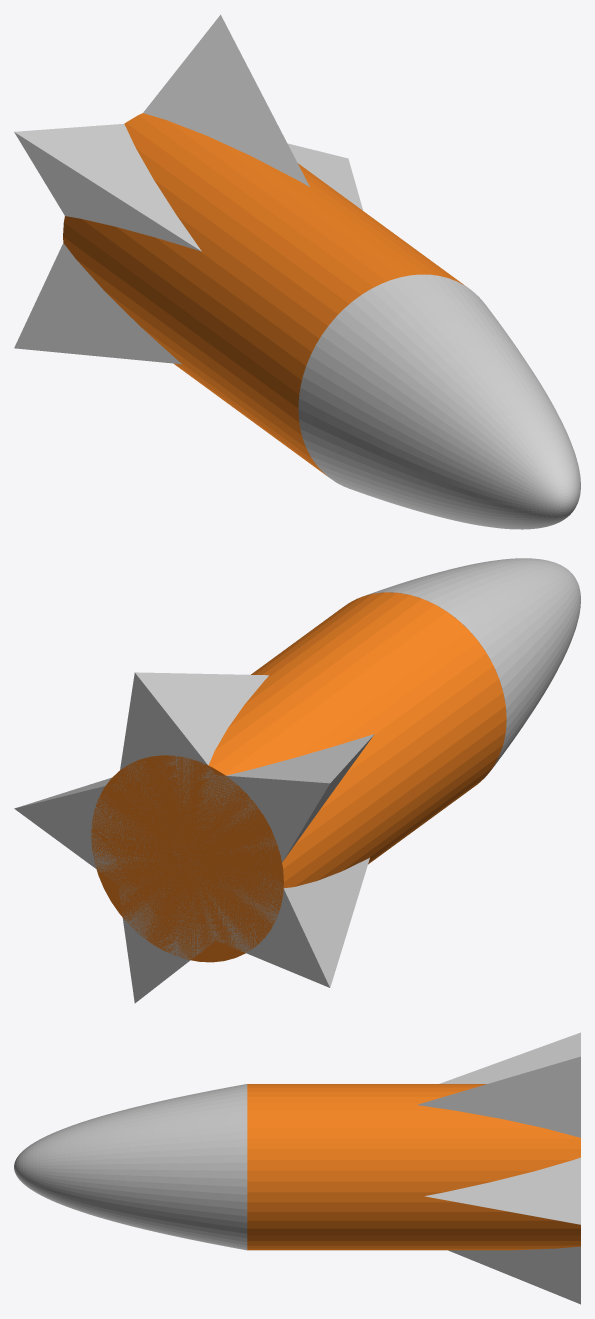
Rendered from bom.obj.
3 renders of one model, top to bottom at view 1: azimuth 30°, elevation 25°; view 2: azimuth 150°, elevation 25°; view 3: azimuth 270°, elevation 25°, orthographic. The views are drawn at different scales.
Parts seen in each view (by area): view 1: obj_1, obj_0, obj_2; view 2: obj_1, obj_2, obj_0; view 3: obj_1, obj_0, obj_2.
Boxes of the visible parts, left/top/right/bottom form: obj_1: left=63, top=113, right=466, bottom=484; obj_0: left=298, top=274, right=580, bottom=529; obj_2: left=14, top=14, right=363, bottom=364; obj_1: left=91, top=592, right=506, bottom=962; obj_2: left=14, top=672, right=374, bottom=1003; obj_0: left=348, top=558, right=580, bottom=782; obj_1: left=247, top=1084, right=580, bottom=1250; obj_0: left=14, top=1084, right=247, bottom=1250; obj_2: left=417, top=1032, right=580, bottom=1304.
Bounding box in the file's own units: 41 × 41.04 × 85.
